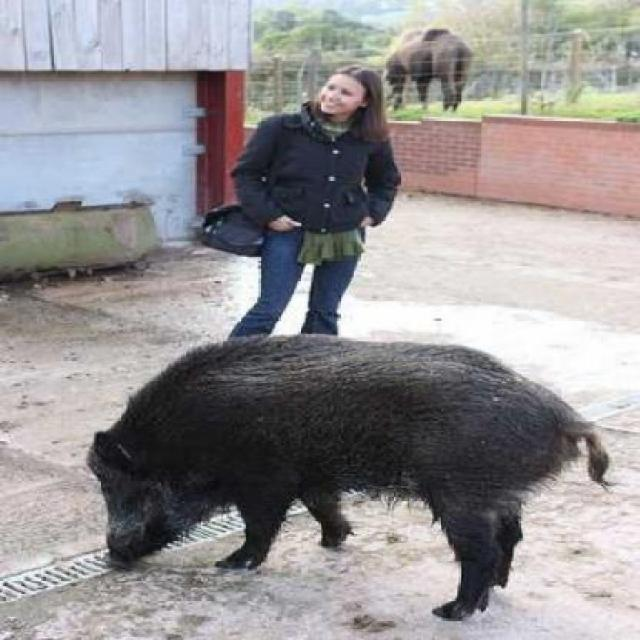pig: (90, 302, 628, 598)
